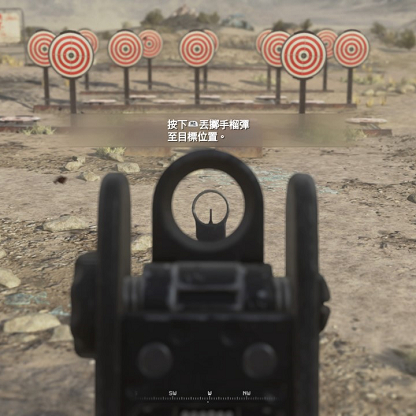target: (279, 30, 327, 81), (48, 30, 94, 79), (332, 28, 370, 69), (106, 28, 144, 68), (178, 28, 214, 70), (25, 30, 47, 68), (259, 29, 279, 66)
